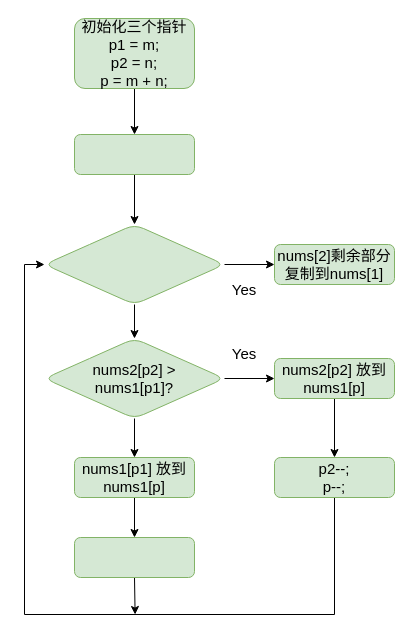
The diagram is 412 pixels wide and 640 high, and some of its shapes have lost their labels. Each missing label, with the box of its shape:
nums2遍历结束 || nums1已经滑到0？: (44, 224, 224, 304)
p1--; p--;: (74, 536, 194, 578)
遍历数组nums2: (74, 134, 194, 174)
